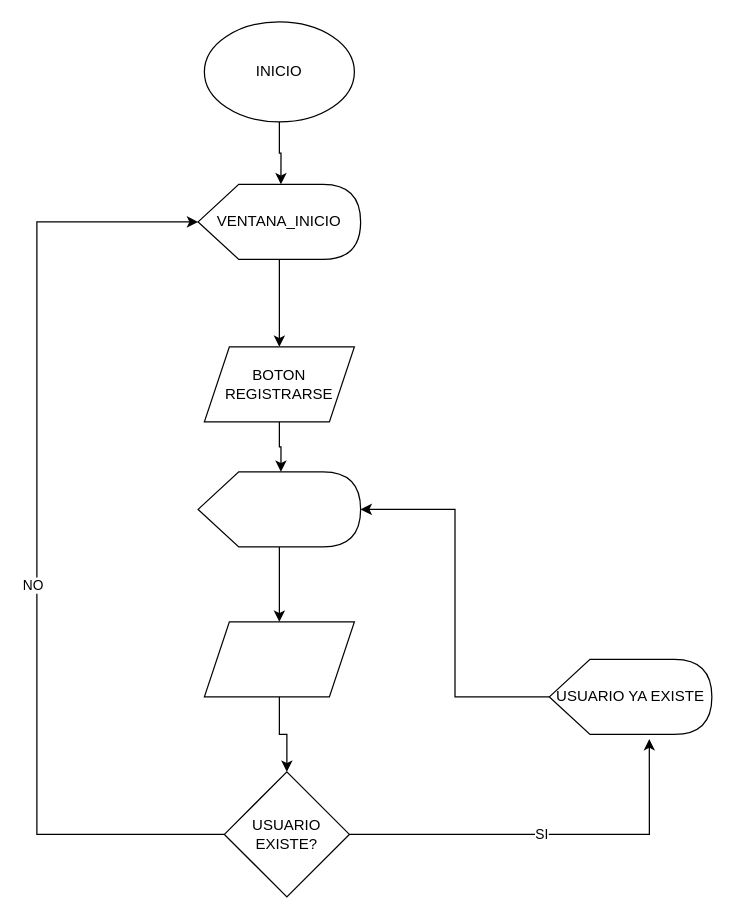
Some shapes in this 734 by 919 pixel diagram are drawn without their labels. The shapes that lost their labels are listed below. From the top down, each one's centre as x and y in pixels, then its label:
At pixel 279 509: "VENTANA_REGISTRO".
At pixel 278 659: "LEER CREDENCIALES".
